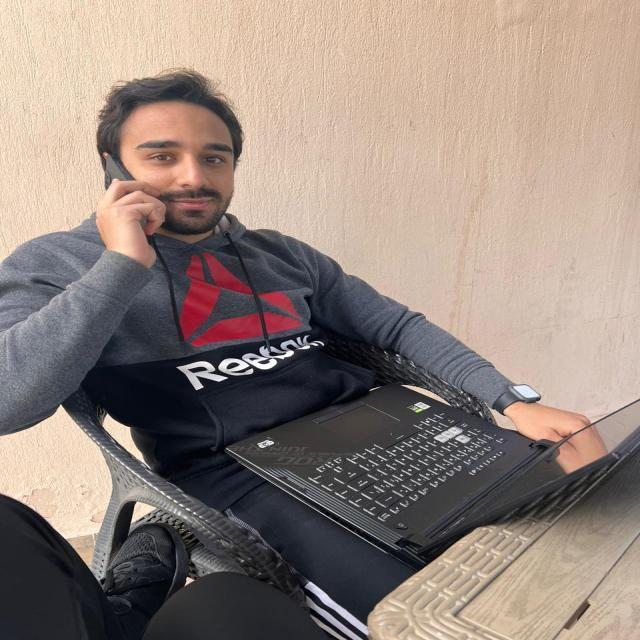phone: (96, 150, 156, 237)
